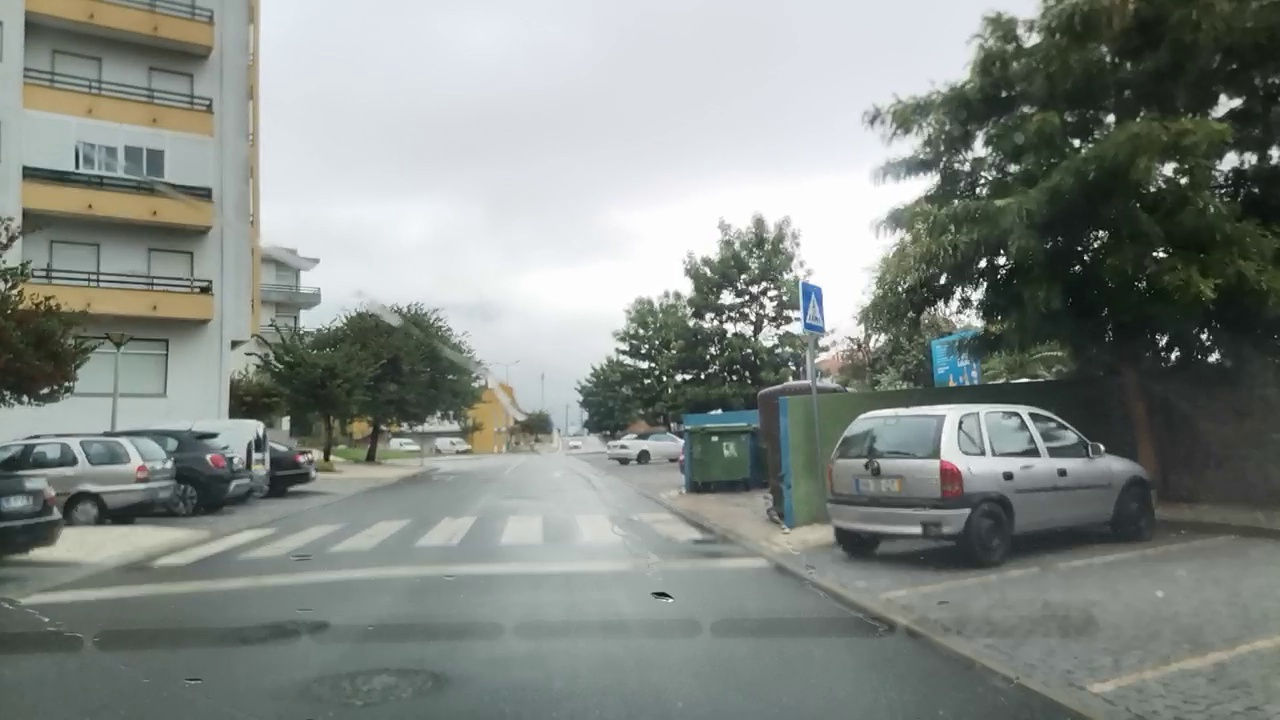Stairs: (147, 516, 711, 566)
